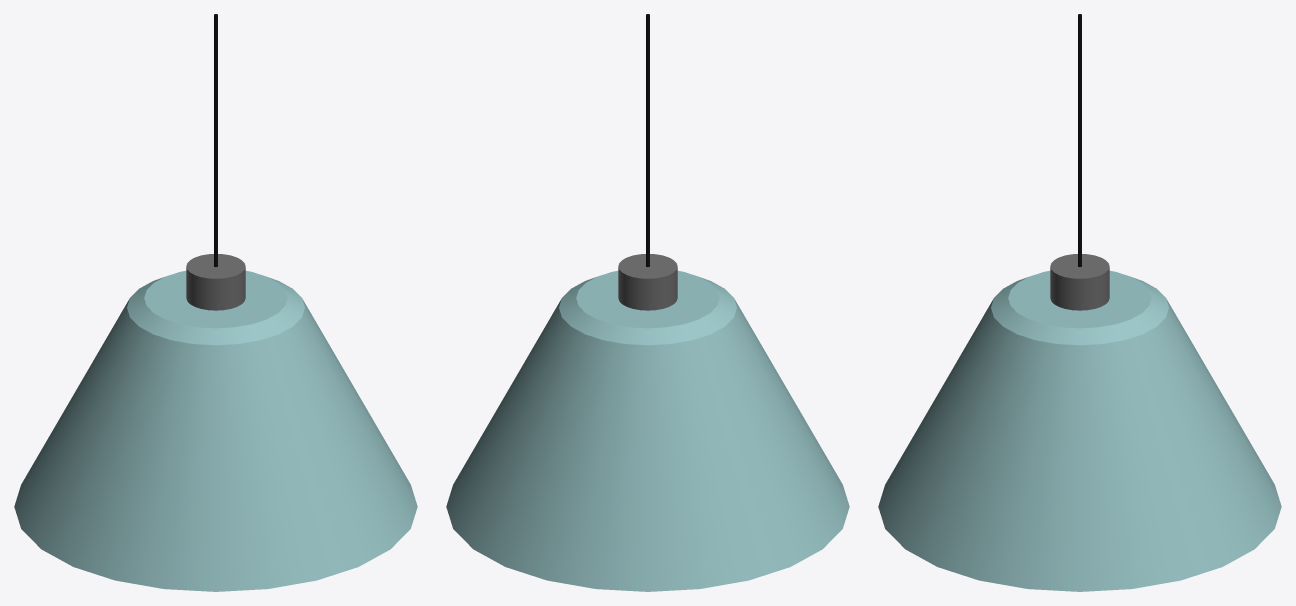
File: Ceiling light.FBX
The picture shows the model from 3 angles, left to right: view 1: azimuth 30°, elevation 25°; view 2: azimuth 150°, elevation 25°; view 3: azimuth 270°, elevation 25°; orthographic projection.
Visible parts, largest first — view 1: Cone001; view 2: Cone001; view 3: Cone001.
Part boxes in pixels (<box>): Cone001: <box>14,14,417,591</box>; Cone001: <box>446,14,849,591</box>; Cone001: <box>878,14,1281,591</box>.
Bounding box in the file's own units: 1826 × 2456 × 1826.
